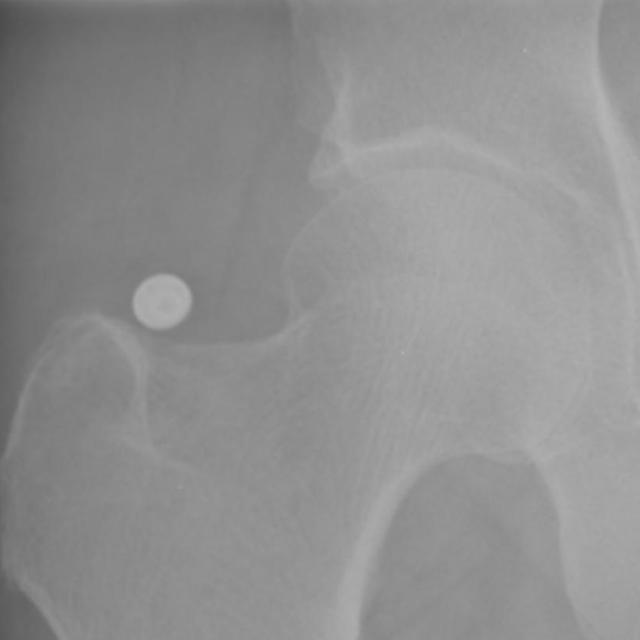Fitted_femural_head: (318, 165, 432, 318)
